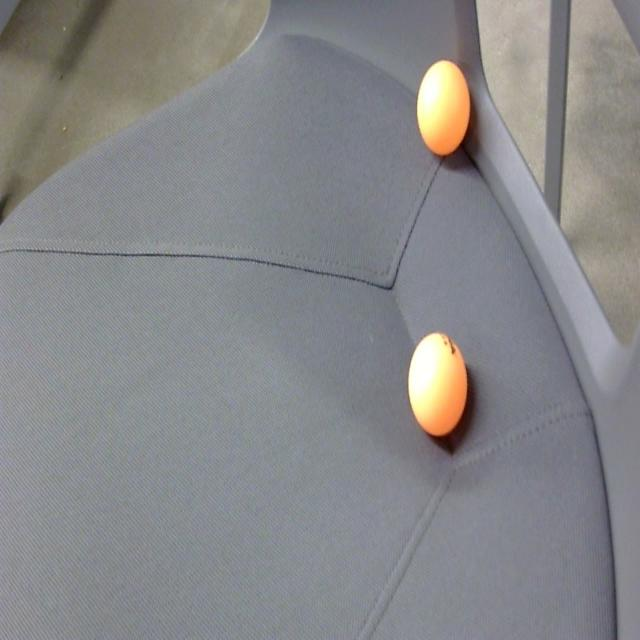ball: (406, 328, 470, 439), (416, 55, 472, 159)
